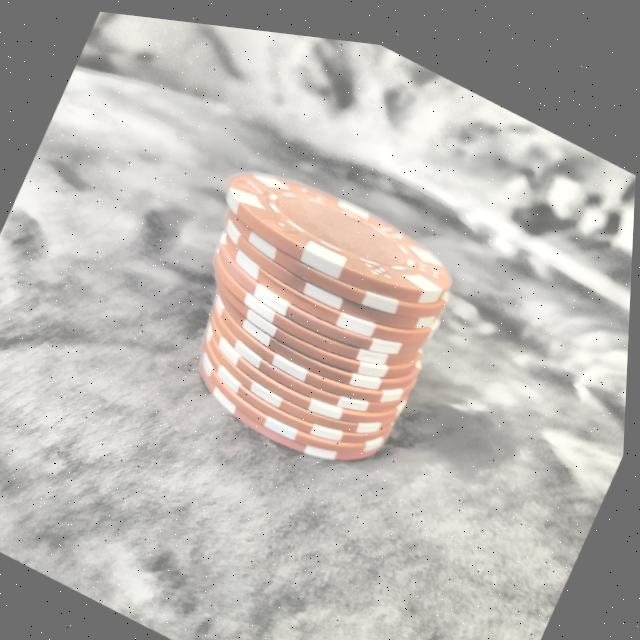Chip: (137, 117, 498, 498)
